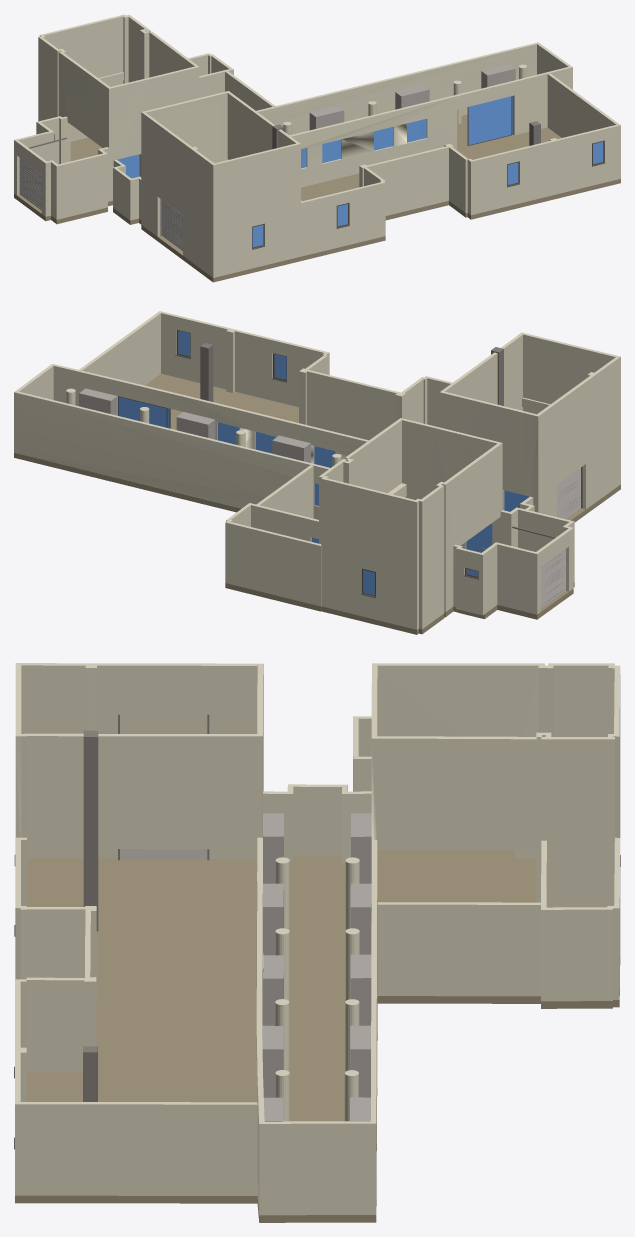
The model's file is iilab2.obj.
The picture shows the model from 3 angles, top to bottom: view 1: azimuth 30°, elevation 25°; view 2: azimuth 150°, elevation 25°; view 3: azimuth 270°, elevation 25°; orthographic projection. The views are drawn at different scales.
Visible parts, largest first — view 1: Wall1, Wall3, Wall4, Wall2, Floor, Shafts, SildeDoor1Glass_1, Window1, RoundedPosts; view 2: Wall1, Wall3, Wall4, Wall2, Floor, Shafts, Window1, SildeDoor1Glass, RoundedPosts, Window4; view 3: Wall1, Floor, Wall3, Wall4, Shafts, Wall2, RoundedPosts.
Part boxes in pixels (x1,y1,x2,y2): Wall1: [38, 14, 572, 187]; Wall3: [141, 91, 303, 277]; Wall4: [302, 73, 620, 255]; Wall2: [14, 116, 141, 220]; Floor: [14, 114, 620, 282]; Shafts: [140, 64, 515, 176]; SildeDoor1Glass_1: [468, 96, 510, 144]; Window1: [301, 119, 426, 168]; RoundedPosts: [283, 64, 526, 135]; Wall1: [14, 363, 502, 629]; Wall3: [439, 332, 620, 516]; Wall4: [79, 311, 452, 440]; Wall2: [453, 496, 574, 615]; Floor: [14, 373, 620, 634]; Shafts: [79, 388, 503, 510]; Window1: [217, 422, 335, 467]; SildeDoor1Glass: [118, 397, 166, 427]; RoundedPosts: [66, 388, 341, 466]; Window4: [466, 524, 492, 552]; Wall1: [256, 663, 620, 1215]; Floor: [15, 850, 620, 1222]; Wall3: [15, 663, 263, 931]; Wall4: [15, 840, 257, 1195]; Shafts: [262, 813, 371, 1121]; Wall2: [263, 716, 514, 862]; RoundedPosts: [275, 857, 359, 1121].
Size of the model in its own units: 34.88 by 7.98 by 21.72.
